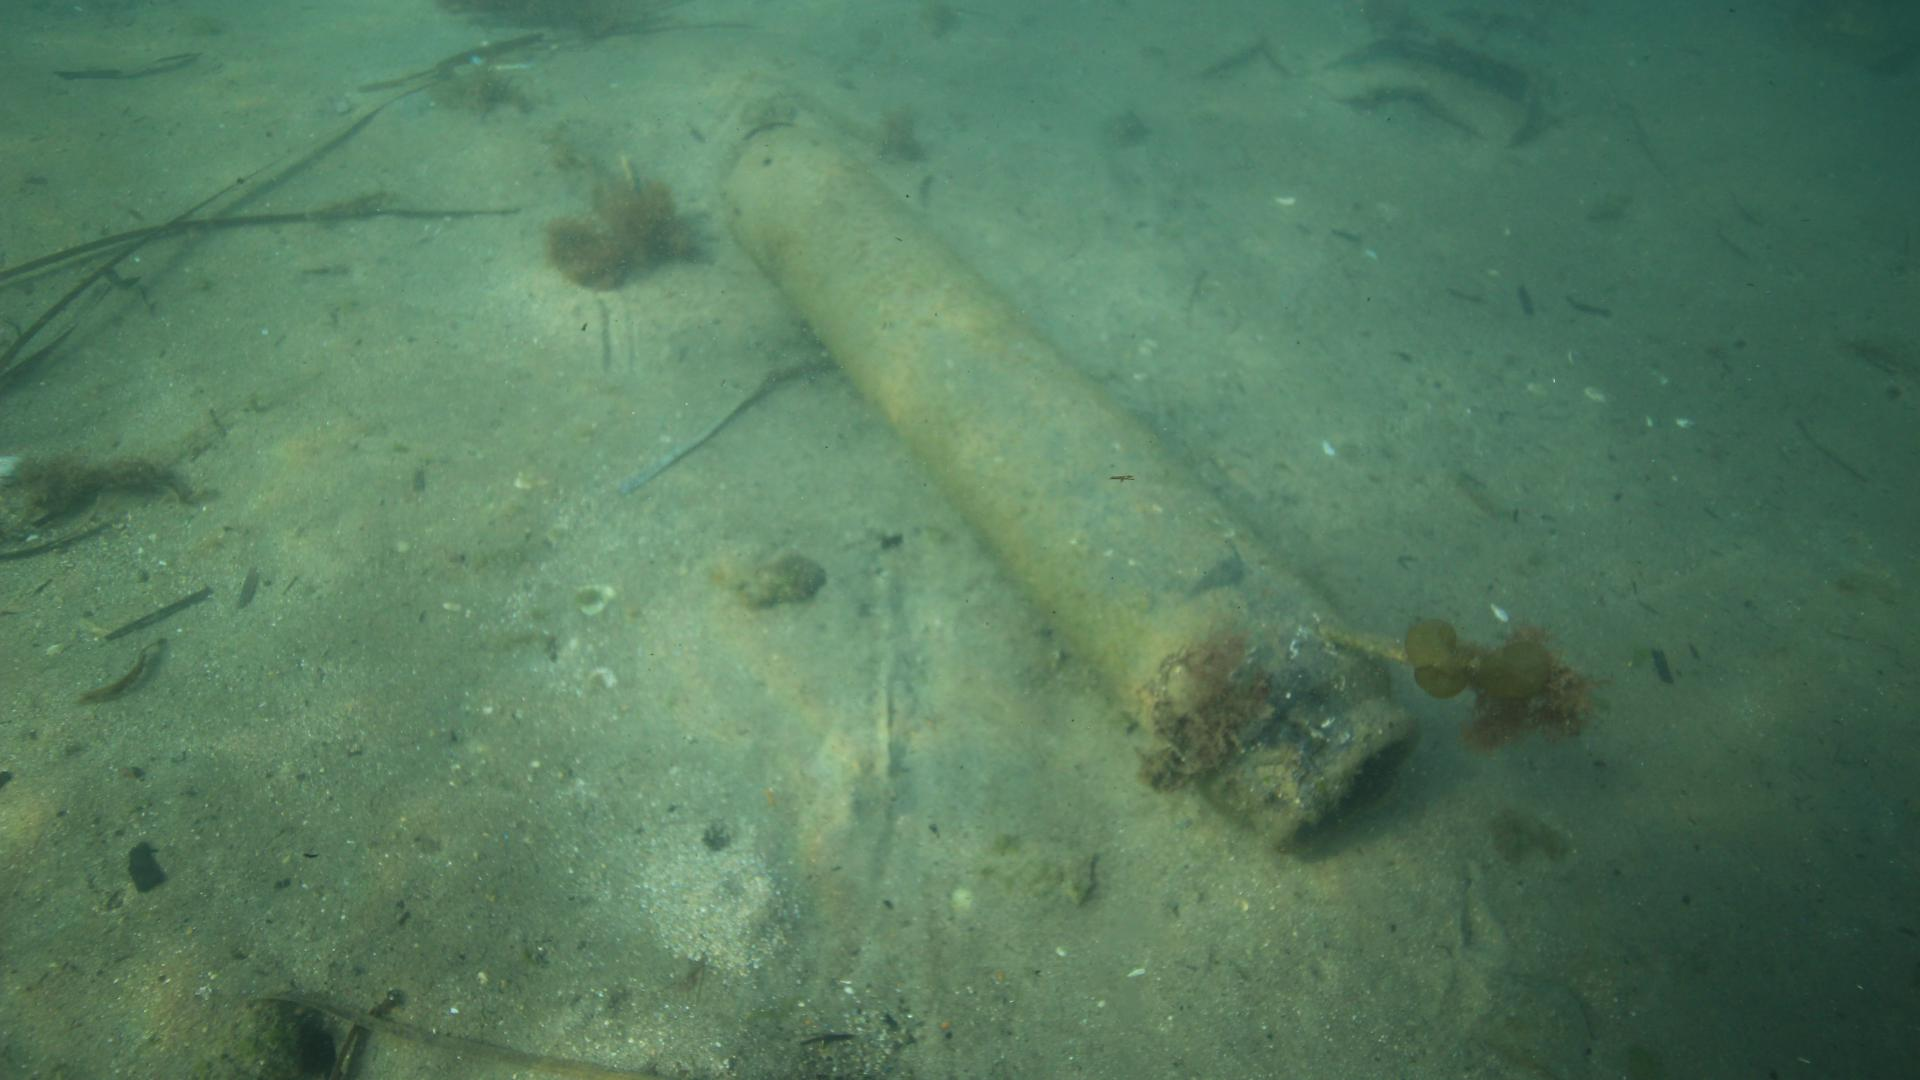eel fish trap: (715, 113, 1418, 845)
